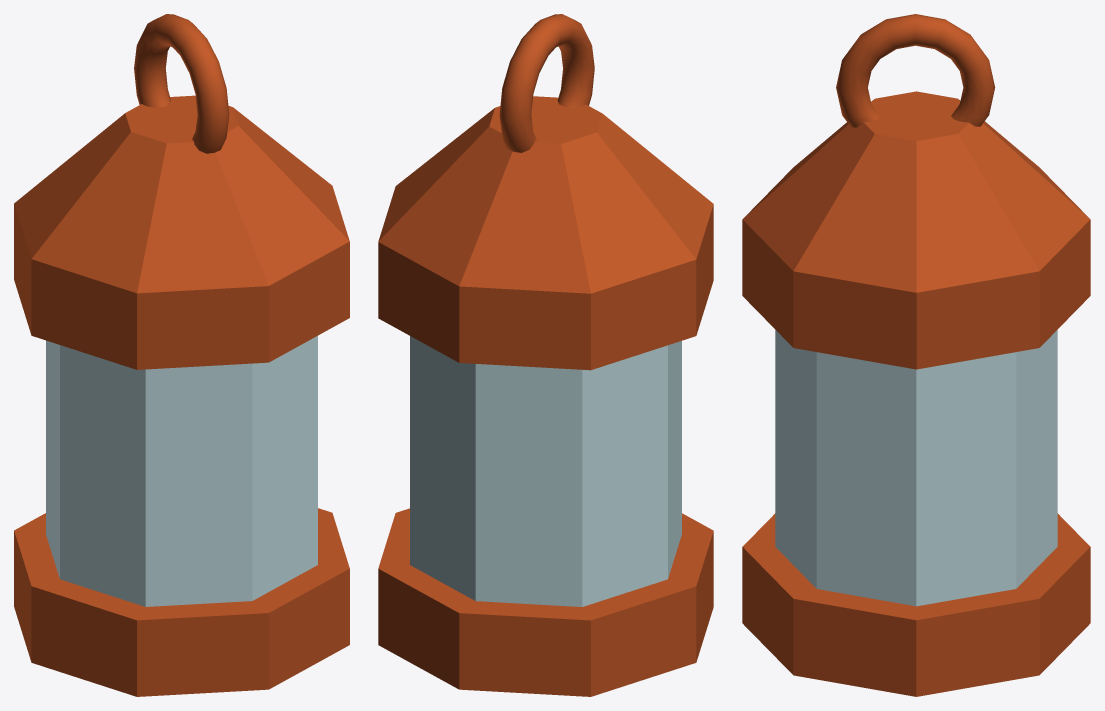
The model's file is Lampara.fbx.
3 renders of one model, left to right at view 1: azimuth 30°, elevation 25°; view 2: azimuth 150°, elevation 25°; view 3: azimuth 270°, elevation 25°, orthographic.
Parts seen in each view (by area): view 1: Cylinder.003, Cylinder.004, Cylinder.002, Torus; view 2: Cylinder.003, Cylinder.004, Cylinder.002, Torus; view 3: Cylinder.003, Cylinder.004, Cylinder.002, Torus.
Part boxes in pixels (x1,y1,x2,y2): Cylinder.003: (14, 95, 349, 369); Cylinder.004: (46, 336, 317, 606); Cylinder.002: (14, 508, 349, 696); Torus: (134, 14, 229, 153); Cylinder.003: (378, 96, 713, 370); Cylinder.004: (410, 336, 681, 606); Cylinder.002: (378, 508, 713, 696); Torus: (499, 14, 594, 152); Cylinder.003: (742, 91, 1090, 369); Cylinder.004: (775, 330, 1057, 606); Cylinder.002: (742, 513, 1090, 696); Torus: (836, 14, 995, 127).
Size of the model in its own units: 28.02 by 53.99 by 28.02.
